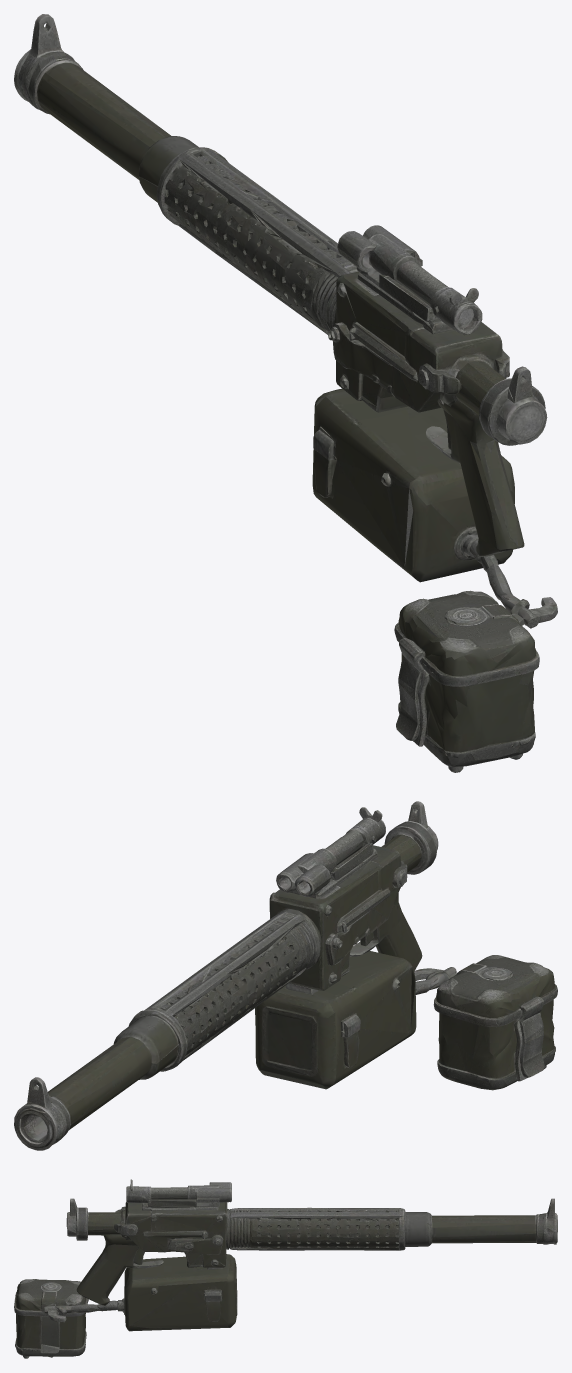
Rendered from tower_mg42.glb.
3 views of the same model, one above another, from view 1: azimuth 30°, elevation 25°; view 2: azimuth 150°, elevation 25°; view 3: azimuth 270°, elevation 25° (orthographic). The views are drawn at different scales.
Visible parts, largest first — view 1: tower_mg42; view 2: tower_mg42; view 3: tower_mg42.
Part boxes in pixels (x1=…): tower_mg42: x1=14, y1=14, x2=557, y2=772; tower_mg42: x1=14, y1=801, x2=557, y2=1150; tower_mg42: x1=14, y1=1179, x2=557, y2=1358.
Bounding box in the file's own units: 0.4676 × 0.8644 × 2.25.
1 material, 1 textured.
